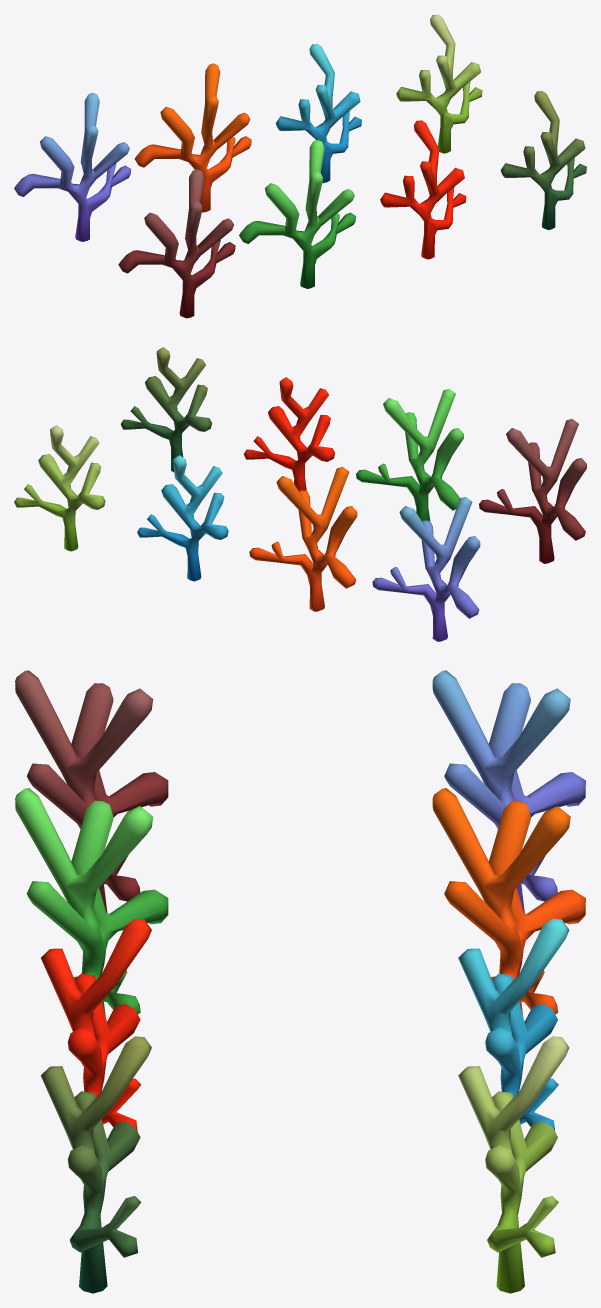
The model's file is Coral Reef Set3.glb.
The picture shows the model from 3 angles, top to bottom: view 1: azimuth 30°, elevation 25°; view 2: azimuth 150°, elevation 25°; view 3: azimuth 270°, elevation 25°; orthographic projection. The views are drawn at different scales.
Visible parts, largest first — view 1: C_CoralReef.010, C_CoralReef.006, C_CoralReef, C_CoralReef.008, C_CoralReef.005, C_CoralReef.001, C_CoralReef.009, C_CoralReef.007; view 2: C_CoralReef.006, C_CoralReef.010, C_CoralReef.008, C_CoralReef, C_CoralReef.007, C_CoralReef.009, C_CoralReef.005, C_CoralReef.001; view 3: C_CoralReef.008, C_CoralReef, C_CoralReef.006, C_CoralReef.010, C_CoralReef.005, C_CoralReef.009, C_CoralReef.001, C_CoralReef.007.
Part boxes in pixels (left/top/right/bottom): C_CoralReef.010: left=14, top=93, right=131, bottom=241; C_CoralReef.006: left=118, top=169, right=235, bottom=318; C_CoralReef: left=239, top=140, right=355, bottom=288; C_CoralReef.008: left=134, top=63, right=251, bottom=212; C_CoralReef.005: left=500, top=91, right=586, bottom=230; C_CoralReef.001: left=380, top=120, right=466, bottom=259; C_CoralReef.009: left=396, top=14, right=482, bottom=153; C_CoralReef.007: left=276, top=44, right=361, bottom=183; C_CoralReef.006: left=479, top=419, right=586, bottom=563; C_CoralReef.010: left=372, top=496, right=480, bottom=641; C_CoralReef.008: left=249, top=466, right=357, bottom=611; C_CoralReef: left=356, top=389, right=463, bottom=521; C_CoralReef.007: left=137, top=455, right=228, bottom=581; C_CoralReef.009: left=14, top=425, right=105, bottom=551; C_CoralReef.005: left=120, top=347, right=211, bottom=471; C_CoralReef.001: left=243, top=377, right=334, bottom=491; C_CoralReef.008: left=432, top=788, right=585, bottom=1014; C_CoralReef: left=15, top=788, right=168, bottom=1015; C_CoralReef.006: left=15, top=670, right=168, bottom=912; C_CoralReef.010: left=432, top=670, right=585, bottom=912; C_CoralReef.005: left=40, top=1036, right=151, bottom=1293; C_CoralReef.009: left=458, top=1036, right=569, bottom=1293; C_CoralReef.001: left=41, top=918, right=151, bottom=1130; C_CoralReef.007: left=458, top=918, right=569, bottom=1131.
Bounding box in the file's own units: 7.63 × 2.14 × 4.1.
Materials: 1 (1 with a texture image).
